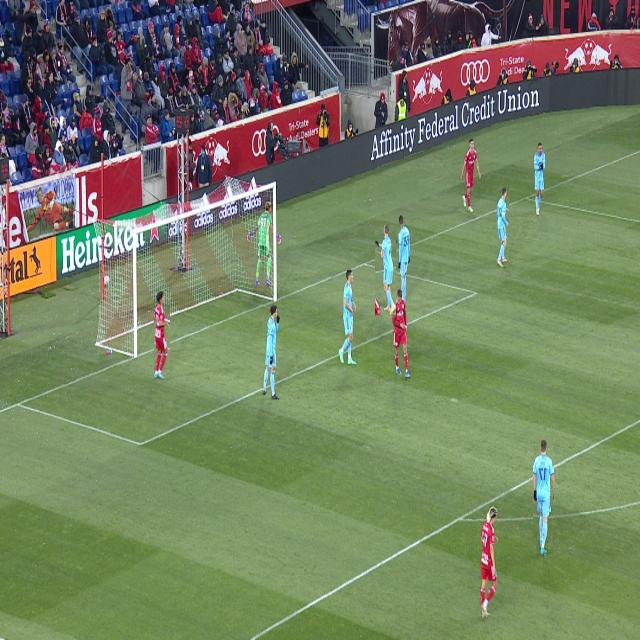player: (534, 441, 553, 554), (481, 507, 498, 617), (376, 225, 396, 315), (263, 305, 280, 400), (339, 270, 356, 365), (392, 290, 410, 378), (154, 291, 170, 379), (398, 216, 410, 303), (497, 187, 509, 267), (534, 143, 545, 215)
